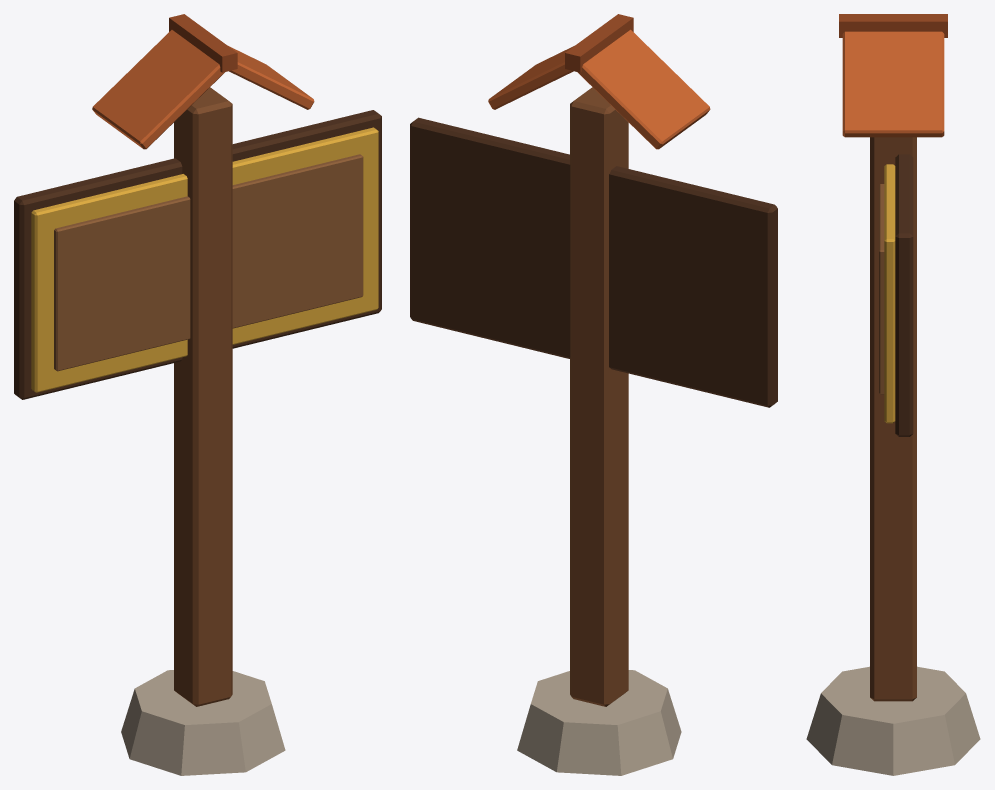
The model's file is papan_nama_v001.glb.
The picture shows the model from 3 angles, left to right: view 1: azimuth 30°, elevation 25°; view 2: azimuth 150°, elevation 25°; view 3: azimuth 270°, elevation 25°; orthographic projection. The views are drawn at different scales.
Parts seen in each view (by area): view 1: Papan_Nama_Tiang, Papan_Nama; view 2: Papan_Nama_Tiang; view 3: Papan_Nama_Tiang, Papan_Nama.
Part boxes in pixels (bbox=[...]): Papan_Nama_Tiang: bbox=[14, 14, 381, 775]; Papan_Nama: bbox=[54, 154, 363, 371]; Papan_Nama_Tiang: bbox=[410, 14, 777, 775]; Papan_Nama_Tiang: bbox=[806, 14, 980, 775]; Papan_Nama: bbox=[879, 184, 884, 394].
Bounding box in the file's own units: 1.18 × 2.2 × 0.48.
